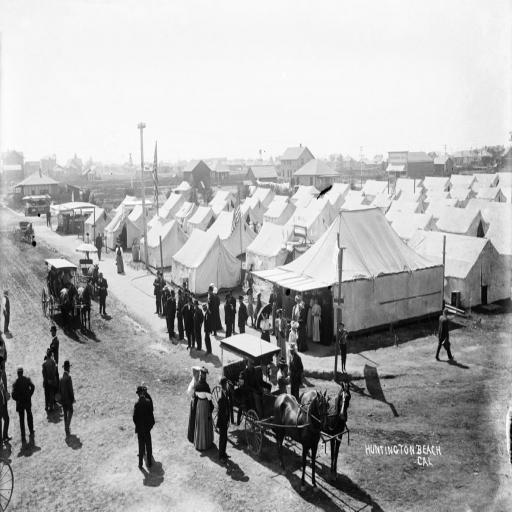Horse: (273, 388, 327, 497), (299, 381, 351, 480), (58, 281, 79, 332), (78, 281, 94, 332), (86, 263, 99, 292)
